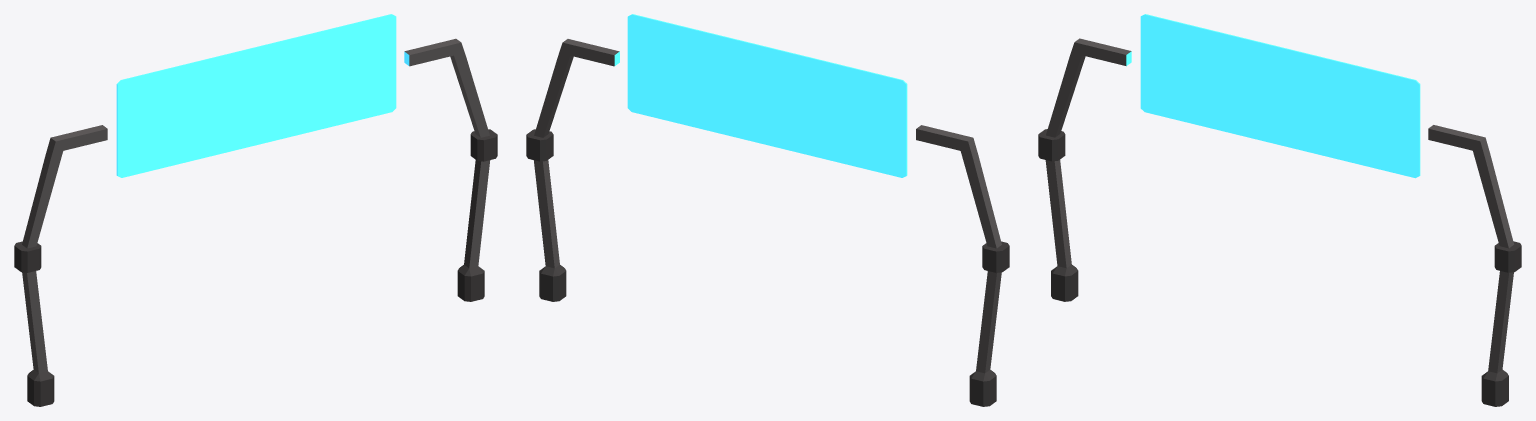
The model's file is scifi_scifi-road-sign.fbx.
The picture shows the model from 3 angles, left to right: view 1: azimuth 30°, elevation 25°; view 2: azimuth 150°, elevation 25°; view 3: azimuth 330°, elevation 25°; orthographic projection.
Visible parts, largest first — view 1: scifi_scifi_road_sign; view 2: scifi_scifi_road_sign; view 3: scifi_scifi_road_sign.
Part boxes in pixels (box(x1,y1,x2,y2)): scifi_scifi_road_sign: box(14, 14, 497, 406); scifi_scifi_road_sign: box(526, 14, 1009, 406); scifi_scifi_road_sign: box(1038, 14, 1521, 406).
Bounding box in the file's own units: 200 × 121 × 8.49.
